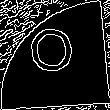O_S: (30, 27, 80, 83)
